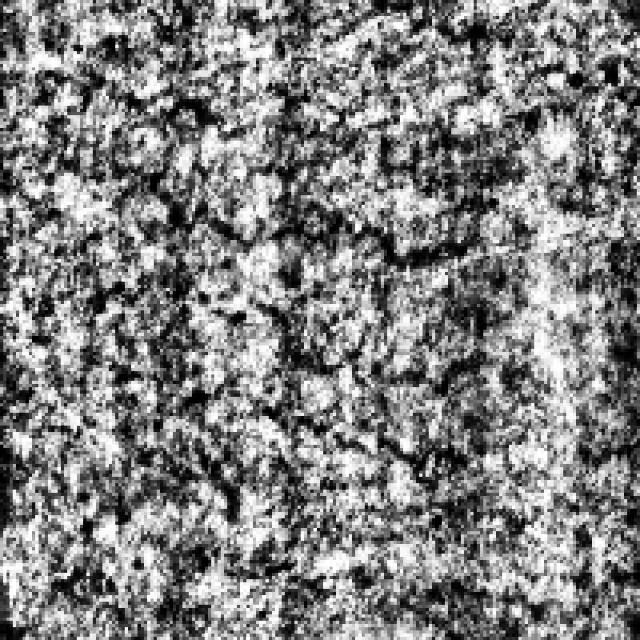Pitted_Surface: (115, 282, 483, 474), (140, 90, 470, 262)
